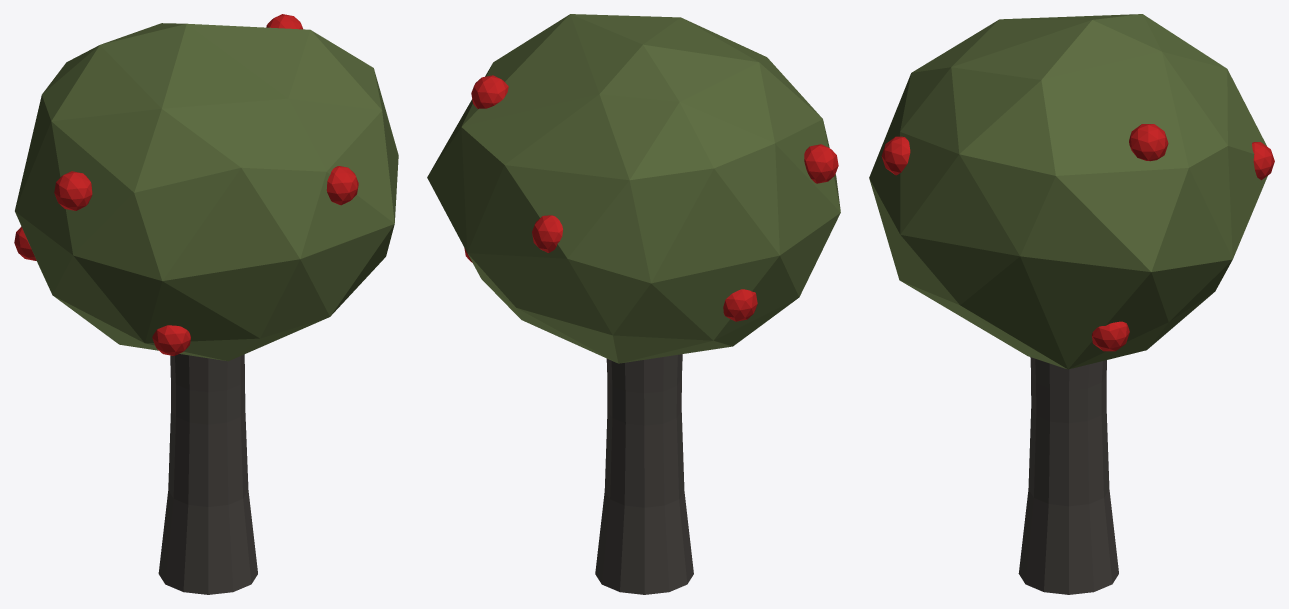
The model's file is apple tree.fbx.
The picture shows the model from 3 angles, left to right: view 1: azimuth 30°, elevation 25°; view 2: azimuth 150°, elevation 25°; view 3: azimuth 270°, elevation 25°; orthographic projection.
Visible parts, largest first — view 1: Icosphere.007; view 2: Icosphere.007; view 3: Icosphere.007.
Boxes of the visible parts, <box> form: Icosphere.007: <box>14,14,398,594</box>; Icosphere.007: <box>427,14,840,594</box>; Icosphere.007: <box>869,14,1274,594</box>.
Size of the model in its own units: 434 by 645 by 432.
